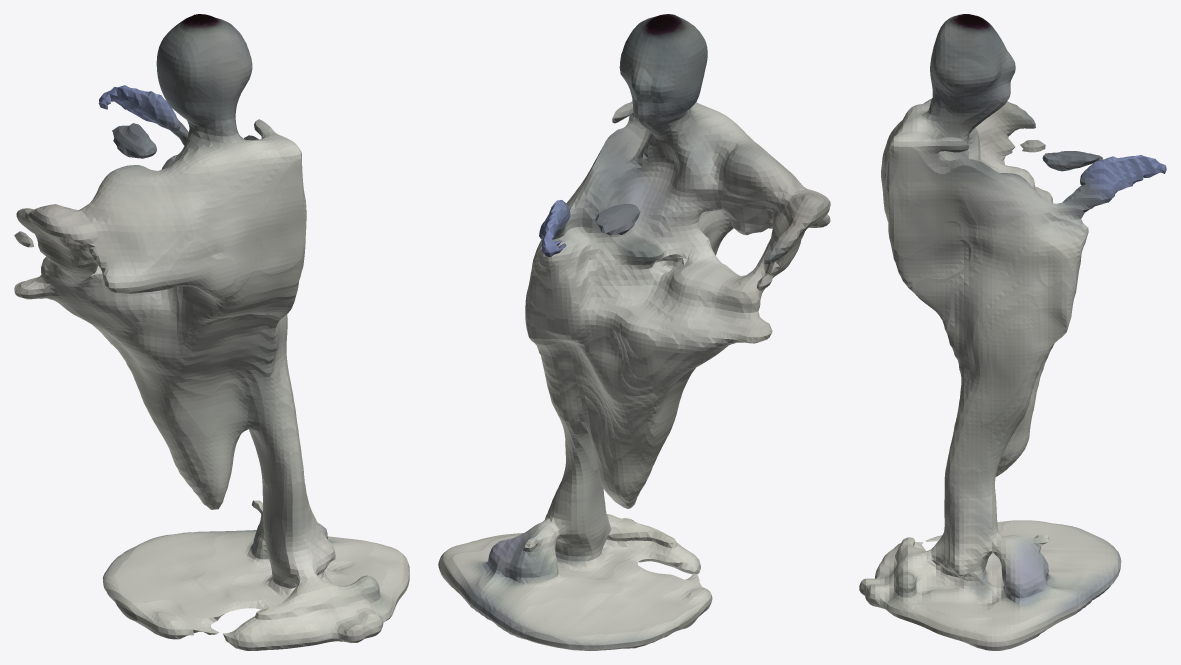
3 views of the same model, side by side, from view 1: azimuth 30°, elevation 25°; view 2: azimuth 150°, elevation 25°; view 3: azimuth 270°, elevation 25° (orthographic). The views are drawn at different scales.
Parts seen in each view (by area): view 1: tmpvuj4o2be.ply; view 2: tmpvuj4o2be.ply; view 3: tmpvuj4o2be.ply.
Boxes of the visible parts, <box> form: tmpvuj4o2be.ply: <box>14,14,409,650</box>; tmpvuj4o2be.ply: <box>438,14,830,650</box>; tmpvuj4o2be.ply: <box>859,14,1166,650</box>.
Size of the model in its own units: 1.3 by 1.98 by 1.02.
